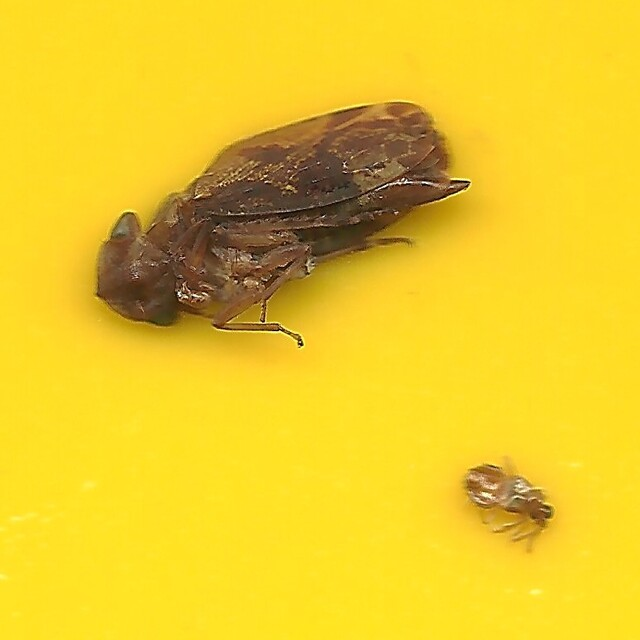Coleoptera: (459, 456, 557, 554)
Hemiptera: (83, 86, 477, 335)
